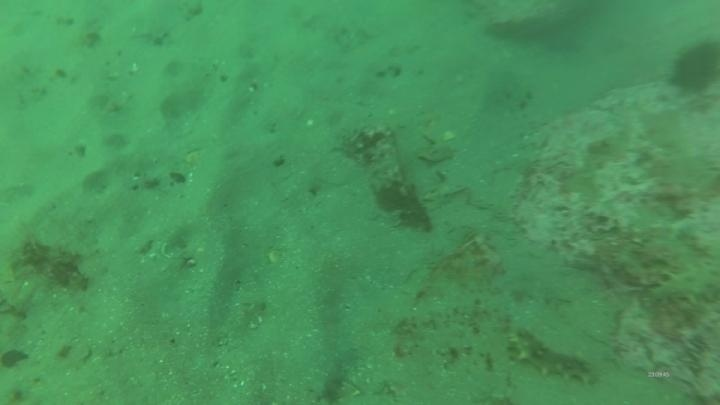echinus: (666, 36, 720, 97)
holothurian: (504, 324, 600, 387), (647, 262, 720, 309)
